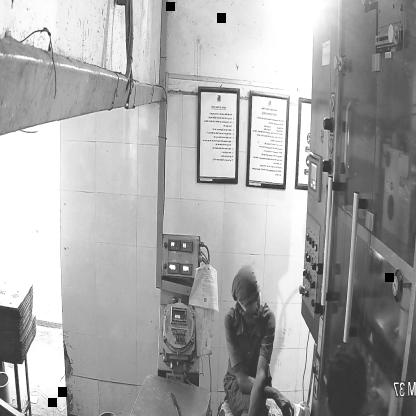goggles: (235, 289, 264, 316)
